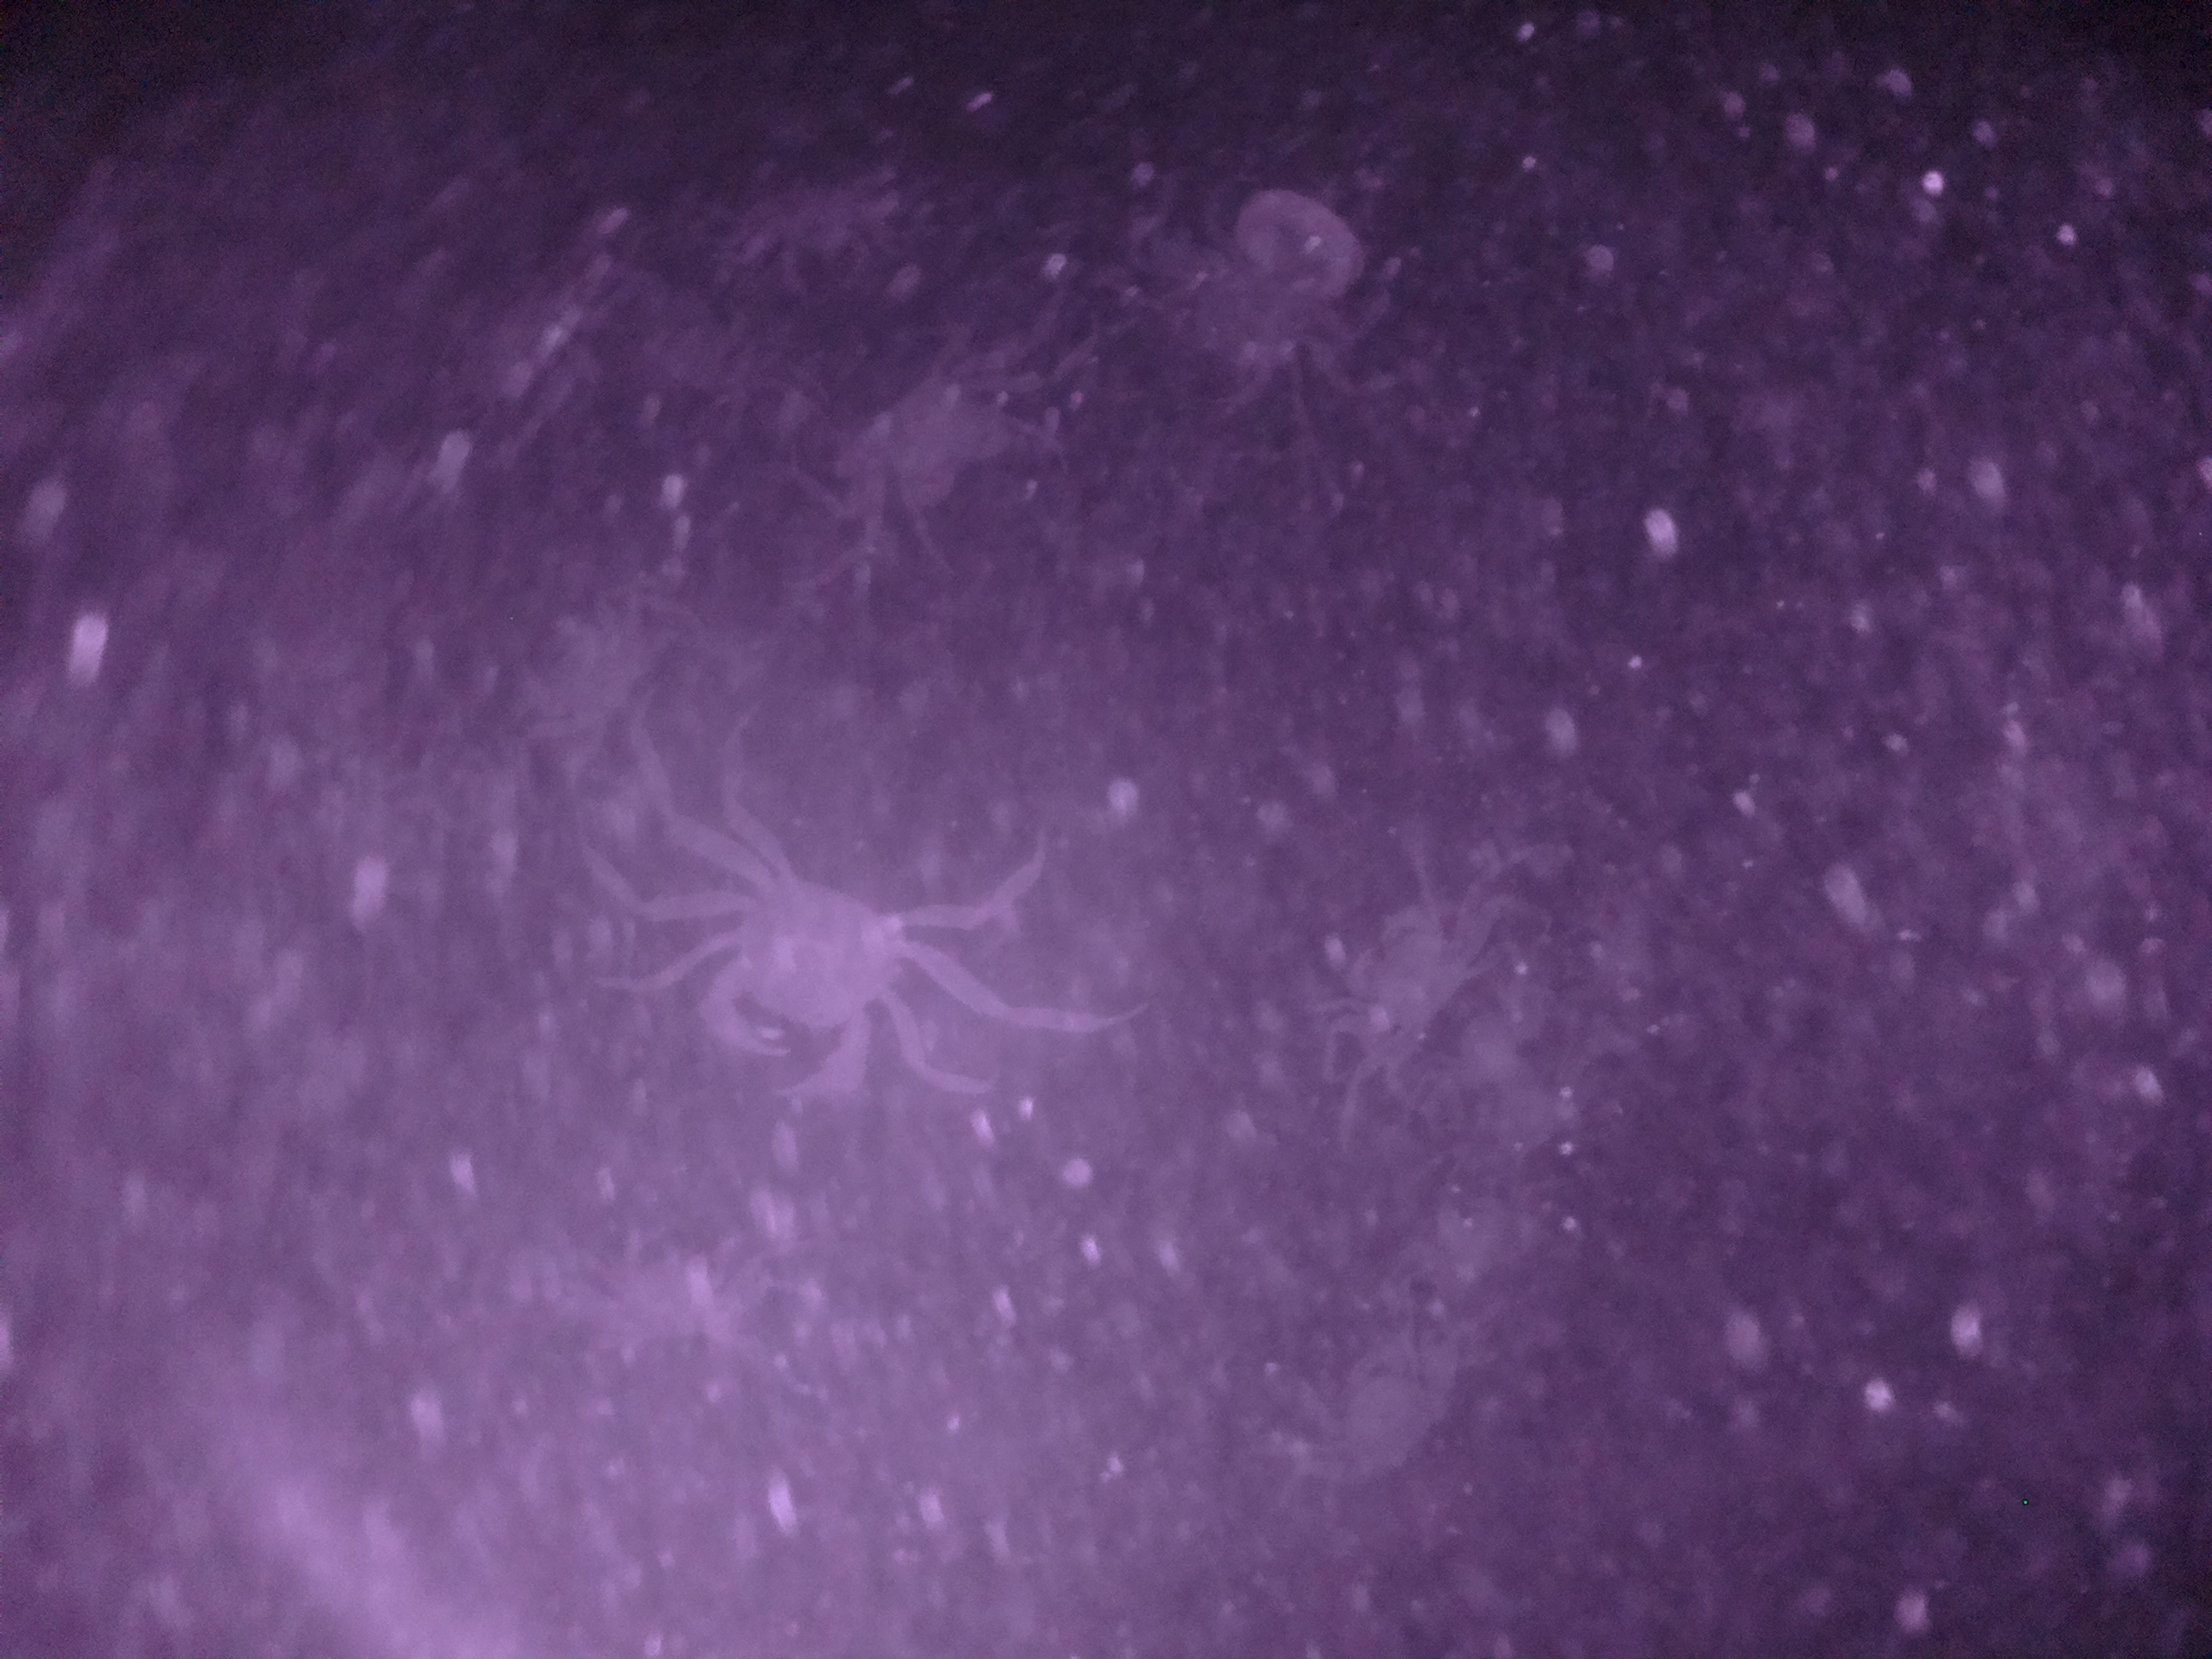Crab: (660, 838, 932, 1108)
